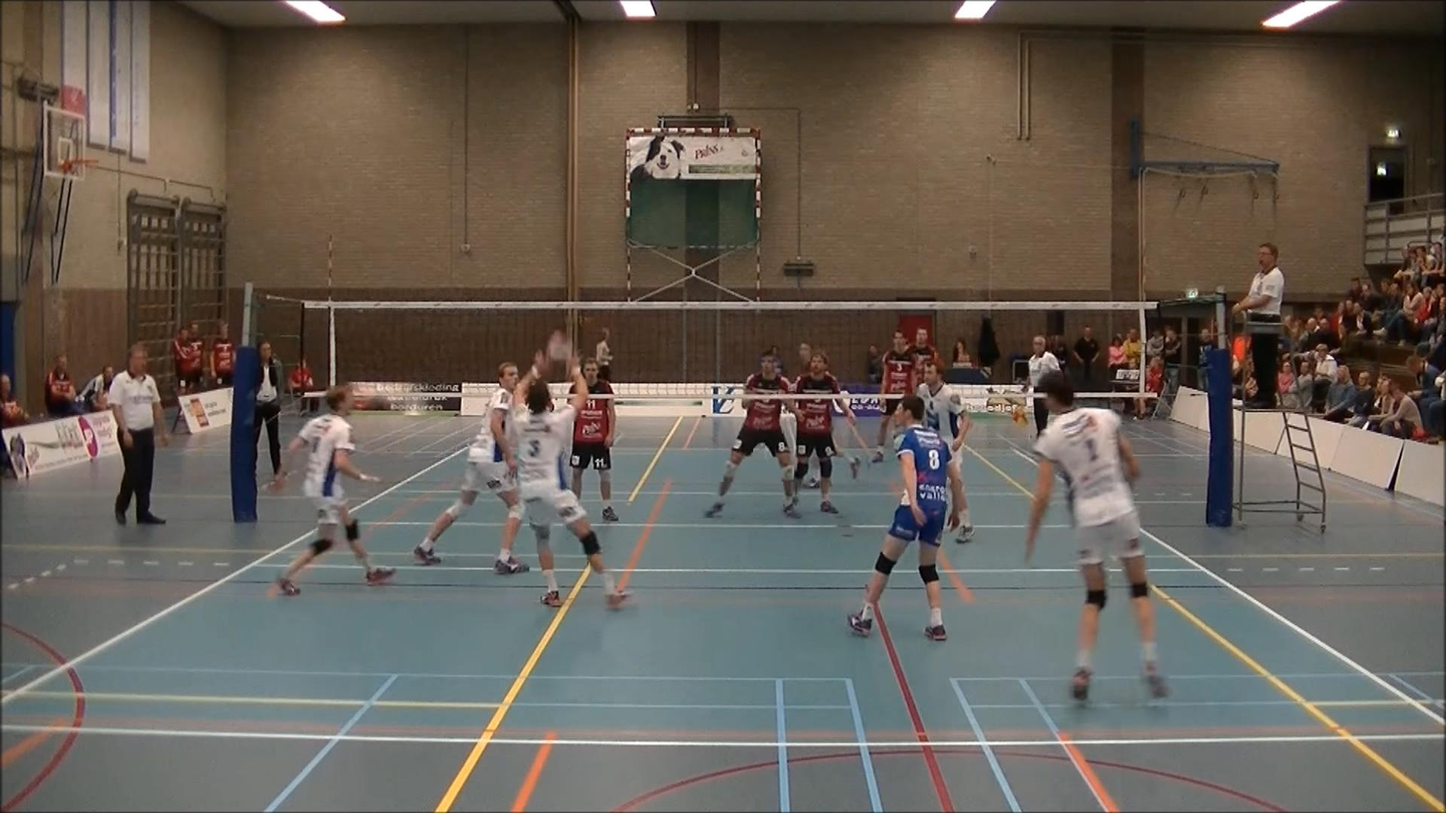ricezione: (511, 335, 635, 611)
